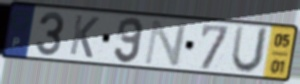3: (34, 10, 65, 58)
7: (199, 22, 232, 72)
9: (114, 15, 145, 65)
K: (67, 13, 101, 61)
N: (142, 18, 191, 67)
U: (228, 24, 271, 76)
